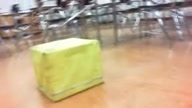cube: (30, 37, 102, 102)
